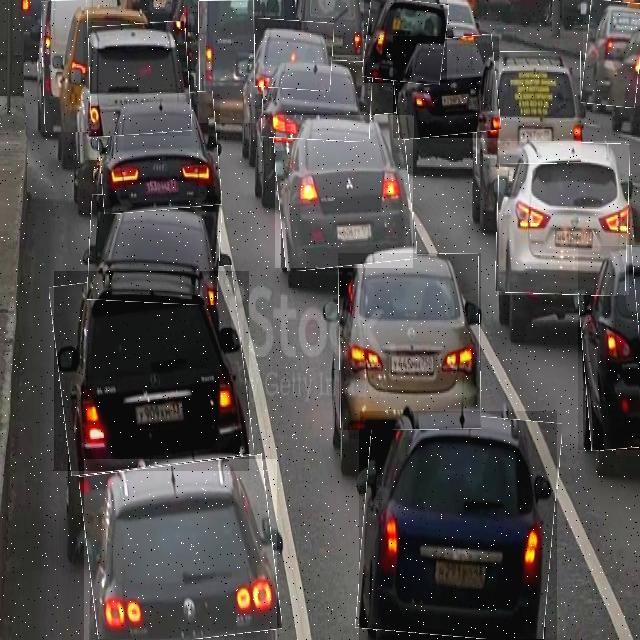Car: (360, 411, 558, 640), (54, 271, 249, 471), (84, 459, 277, 640), (339, 253, 481, 430), (276, 115, 414, 268), (497, 141, 629, 295), (97, 94, 220, 212), (89, 196, 221, 303), (578, 246, 640, 450), (83, 22, 191, 136), (476, 52, 581, 164), (393, 36, 499, 138), (262, 59, 372, 141), (198, 0, 255, 123), (364, 0, 447, 83), (41, 0, 90, 132), (583, 0, 640, 106), (247, 20, 333, 90)
